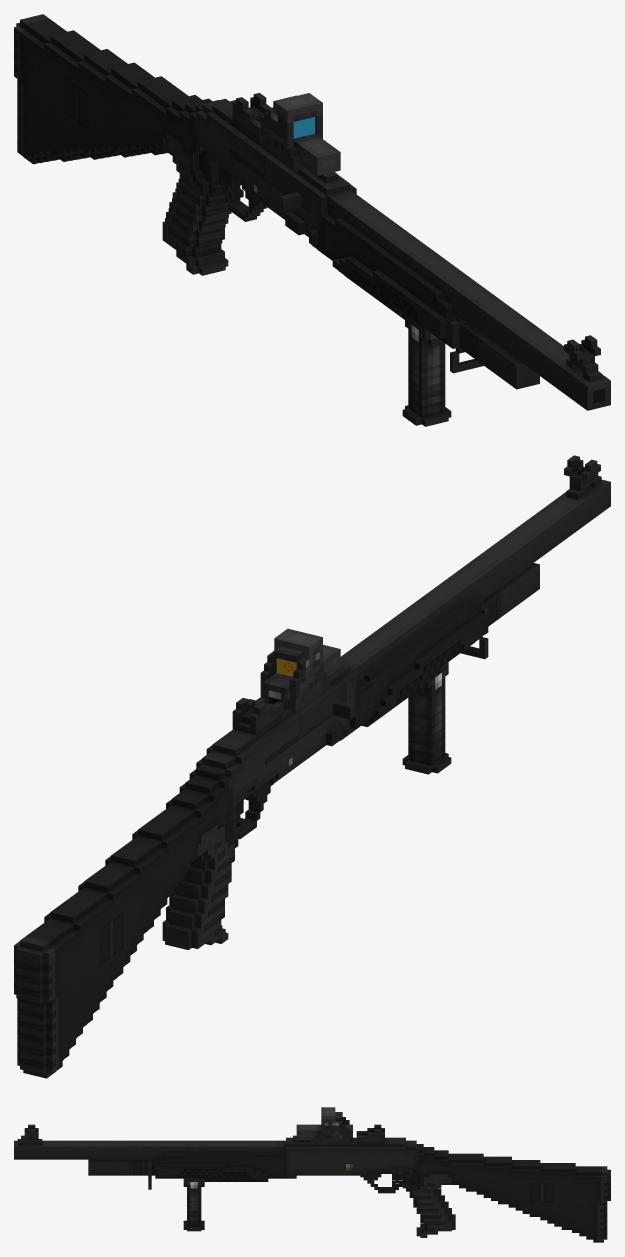
File: RD_BENELLI_M2.glb
The picture shows the model from 3 angles, top to bottom: view 1: azimuth 30°, elevation 25°; view 2: azimuth 150°, elevation 25°; view 3: azimuth 270°, elevation 25°; orthographic projection. The views are drawn at different scales.
Visible parts, largest first — view 1: BENELLI_M2, GRIP1, SCOPE_EOTECH, SCOPE_HOLOSUN, SCOPE_AIMPOINT; view 2: BENELLI_M2, GRIP1, SCOPE_EOTECH, SCOPE_HOLOSUN; view 3: BENELLI_M2, SCOPE_EOTECH, GRIP1, SCOPE_HOLOSUN.
Part boxes in pixels (bbox=[...]): BENELLI_M2: bbox=[14, 14, 610, 410]; GRIP1: bbox=[402, 314, 451, 426]; SCOPE_EOTECH: bbox=[260, 95, 340, 176]; SCOPE_HOLOSUN: bbox=[260, 93, 322, 158]; SCOPE_AIMPOINT: bbox=[281, 110, 322, 141]; BENELLI_M2: bbox=[14, 455, 610, 1078]; GRIP1: bbox=[402, 662, 451, 774]; SCOPE_EOTECH: bbox=[260, 645, 340, 711]; SCOPE_HOLOSUN: bbox=[274, 628, 322, 711]; BENELLI_M2: bbox=[14, 1124, 610, 1242]; SCOPE_EOTECH: bbox=[296, 1112, 349, 1144]; GRIP1: bbox=[183, 1178, 204, 1231]; SCOPE_HOLOSUN: bbox=[321, 1107, 349, 1144].
Size of the model in its own units: 0.0984 by 0.3937 by 1.66.
8 materials, 8 textured.
